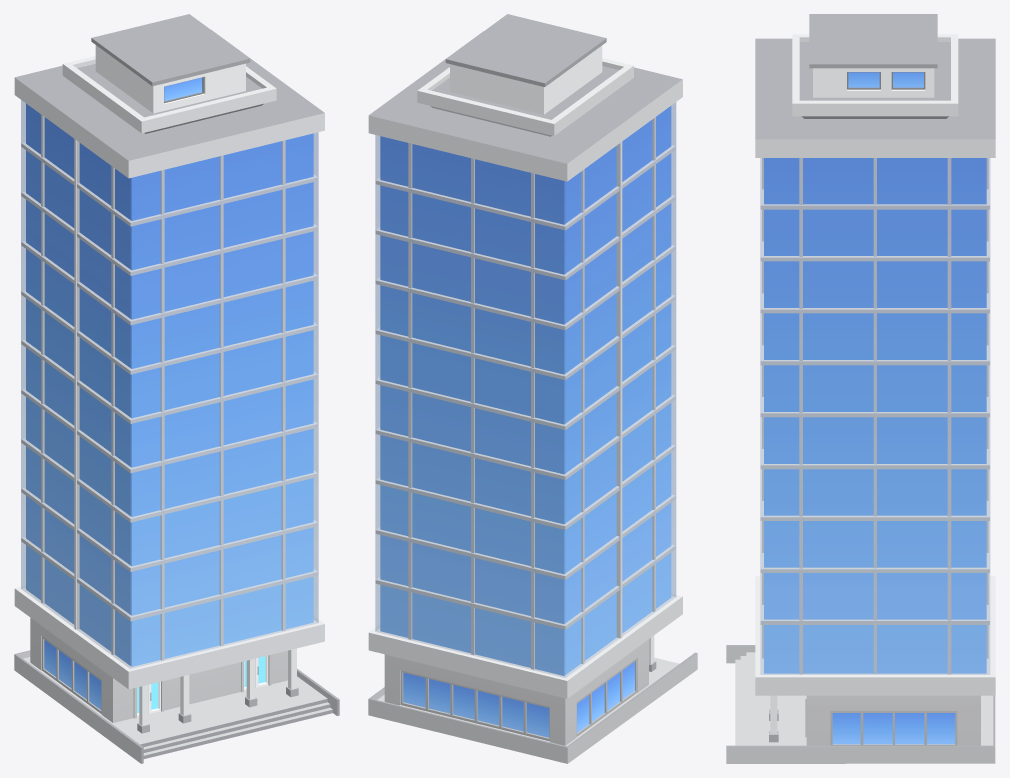
The model's file is city2-building-business-02.glb.
3 renders of one model, left to right at view 1: azimuth 30°, elevation 25°; view 2: azimuth 150°, elevation 25°; view 3: azimuth 270°, elevation 25°, orthographic. The views are drawn at different scales.
Visible parts, largest first — view 1: Building_Business_02; view 2: Building_Business_02; view 3: Building_Business_02.
Boxes of the visible parts, left/top/right/bottom form: Building_Business_02: left=14, top=14, right=339, bottom=763; Building_Business_02: left=368, top=14, right=697, bottom=763; Building_Business_02: left=726, top=14, right=995, bottom=763.
Size of the model in its own units: 13.21 by 40.74 by 14.74.
Materials: 2 (2 with a texture image).
